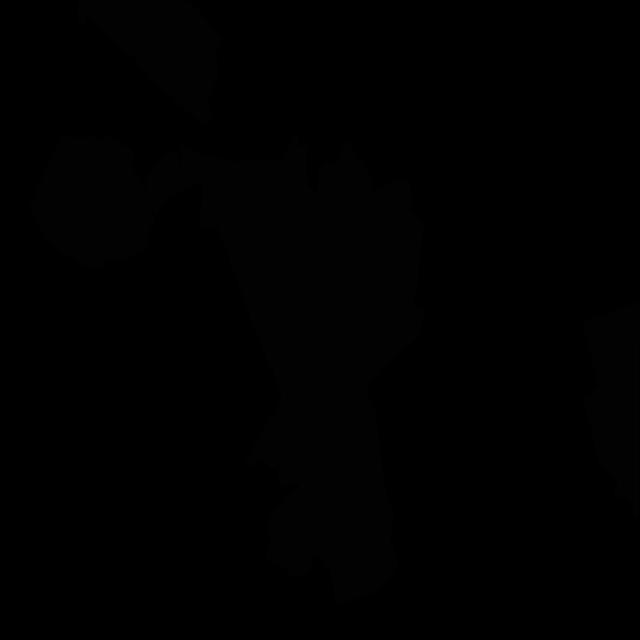cardboard: (245, 135, 426, 603), (144, 143, 286, 372), (77, 0, 222, 122), (28, 134, 155, 269), (582, 300, 640, 519)
